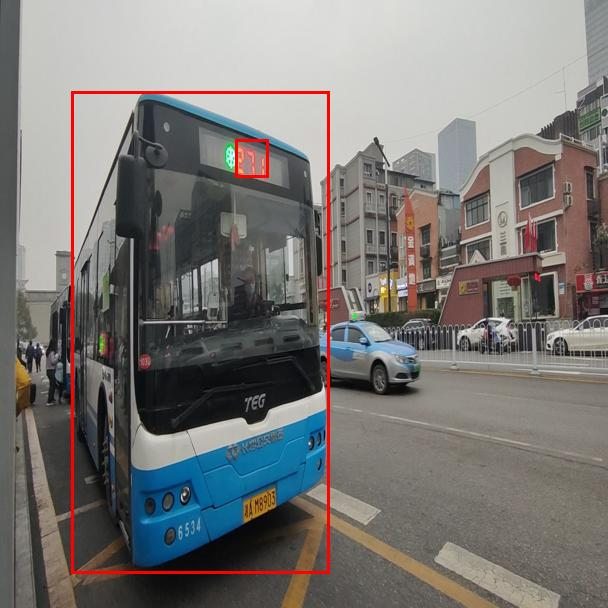bus: (71, 91, 329, 573)
screen: (235, 139, 268, 177)
